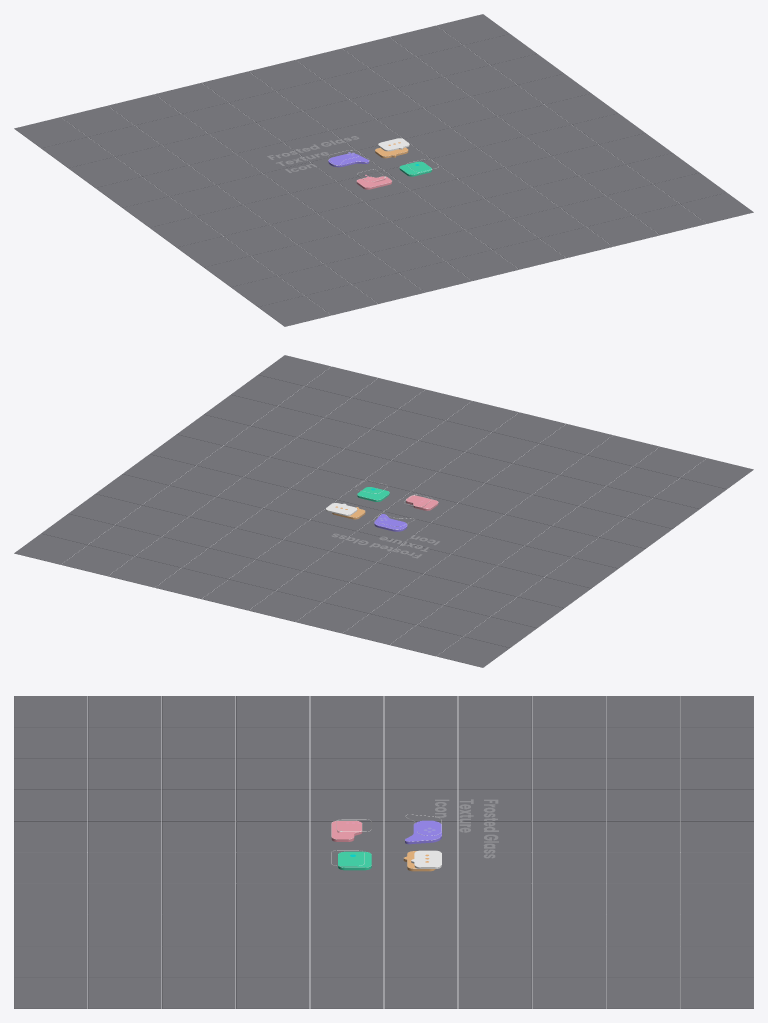
The model's file is frosted_glass_texture_icon(1).gltf.
3 renders of one model, top to bottom at view 1: azimuth 30°, elevation 25°; view 2: azimuth 150°, elevation 25°; view 3: azimuth 270°, elevation 25°, orthographic. The views are drawn at different scales.
Parts seen in each view (by area): view 1: object 33, object 47, object 54, object 58, object 62, object 64, object 72, object 87, object 92, object 95, object 97, object 105 (+89 smaller); view 2: object 36, object 42, object 51, object 55, object 67, object 77, object 82, object 92, object 94, object 97, object 104, object 117 (+89 smaller); view 3: object 30, object 31, object 32, object 33, object 34, object 35, object 36, object 37, object 38, object 39, object 40, object 41 (+91 smaller).
Boxes of the visible parts, bbox=[...] form: object 33: bbox=[176, 236, 249, 267]; object 47: bbox=[115, 145, 188, 176]; object 54: bbox=[243, 193, 316, 224]; object 58: bbox=[135, 114, 208, 145]; object 62: bbox=[345, 221, 417, 252]; object 64: bbox=[290, 182, 363, 212]; object 72: bbox=[391, 210, 464, 241]; object 87: bbox=[303, 99, 376, 130]; object 92: bbox=[485, 187, 558, 218]; object 95: bbox=[404, 128, 477, 158]; object 97: bbox=[350, 88, 422, 119]; object 105: bbox=[451, 116, 524, 147]; object 36: bbox=[518, 577, 591, 608]; object 42: bbox=[579, 486, 652, 517]; object 51: bbox=[559, 455, 632, 486]; object 55: bbox=[451, 534, 524, 565]; object 67: bbox=[350, 562, 422, 593]; object 77: bbox=[303, 551, 376, 582]; object 82: bbox=[391, 440, 464, 471]; object 92: bbox=[345, 429, 417, 460]; object 94: bbox=[290, 469, 363, 499]; object 97: bbox=[209, 528, 282, 559]; object 104: bbox=[243, 457, 316, 488]; object 117: bbox=[115, 505, 188, 536]; object 30: bbox=[14, 696, 87, 727]; object 31: bbox=[88, 696, 161, 727]; object 32: bbox=[162, 696, 235, 727]; object 33: bbox=[236, 696, 309, 727]; object 34: bbox=[310, 696, 383, 727]; object 35: bbox=[384, 696, 457, 727]; object 36: bbox=[458, 696, 531, 727]; object 37: bbox=[532, 696, 605, 727]; object 38: bbox=[606, 696, 679, 727]; object 39: bbox=[680, 696, 753, 727]; object 40: bbox=[14, 727, 87, 758]; object 41: bbox=[88, 727, 161, 758].
Size of the model in its own units: 30.18 by 0.53 by 30.18.
23 materials, 3 textured.
